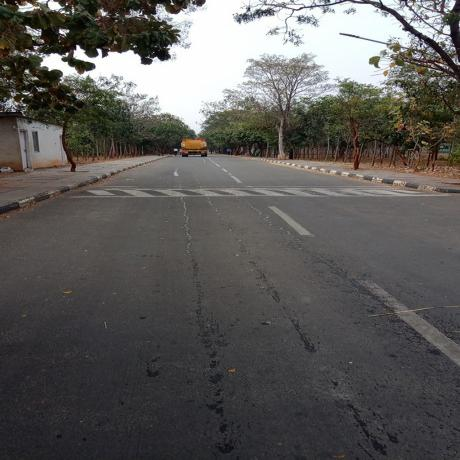Speed Bump: (67, 185, 455, 198)
